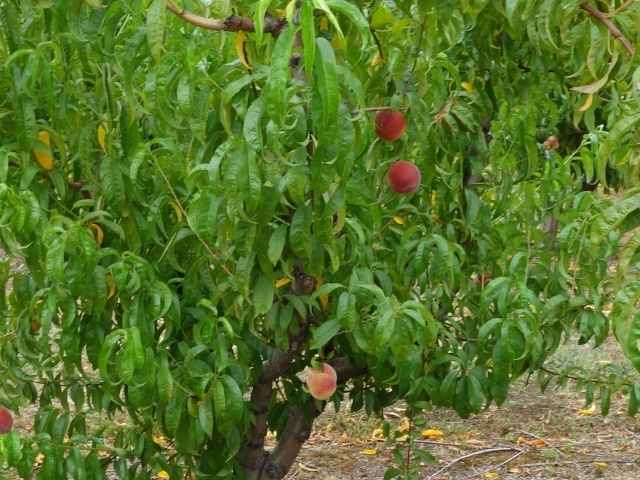peach: (386, 156, 424, 197), (371, 105, 409, 143), (307, 370, 338, 403), (301, 355, 339, 381), (1, 403, 15, 440)
